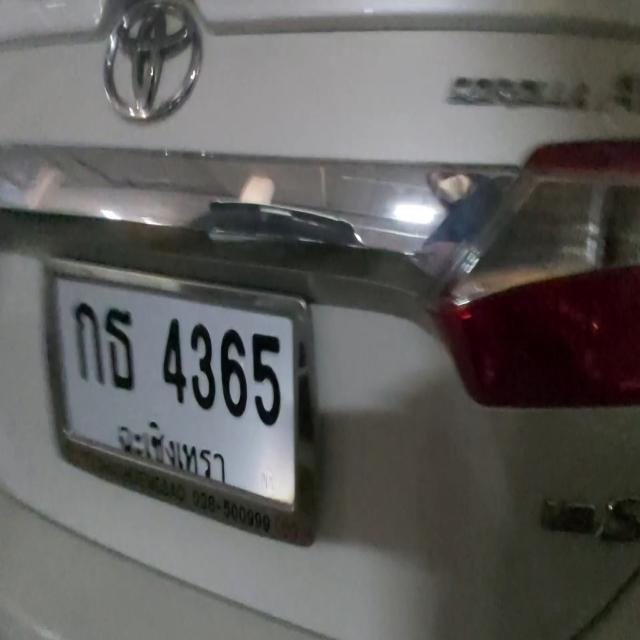license_plate: (54, 272, 295, 508)
